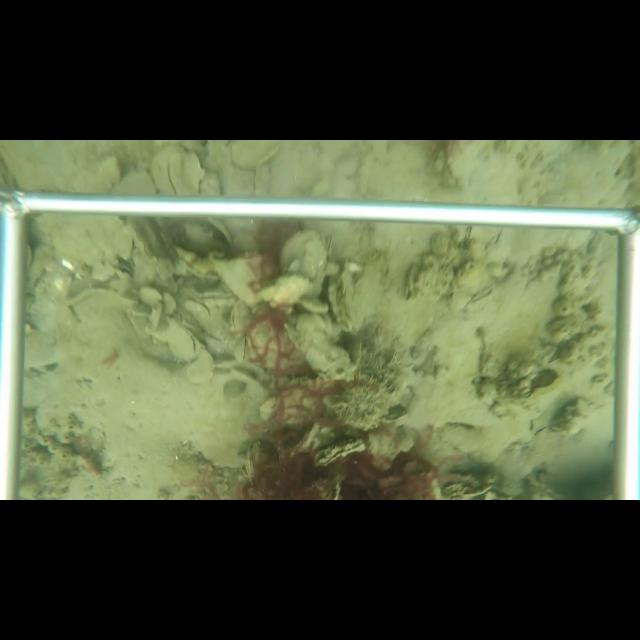Oyster-Closed: (152, 316, 202, 364), (228, 302, 252, 337), (231, 336, 252, 366)
Oyster-Open: (313, 438, 371, 468)
